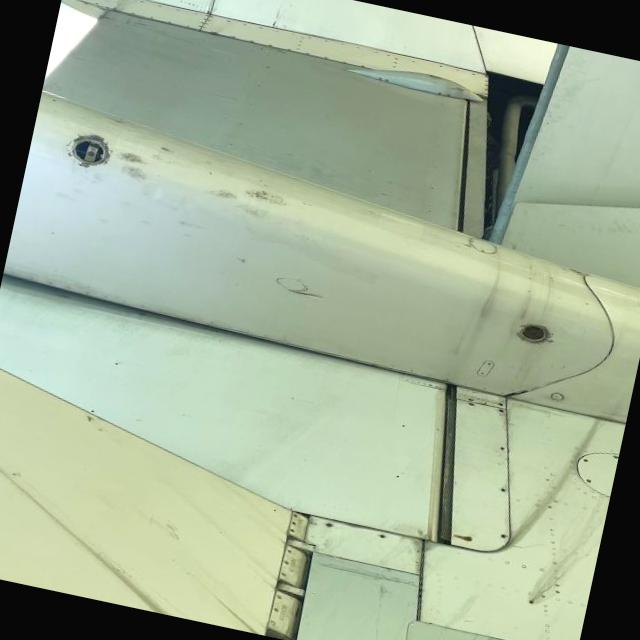crack: (292, 285, 338, 306)
